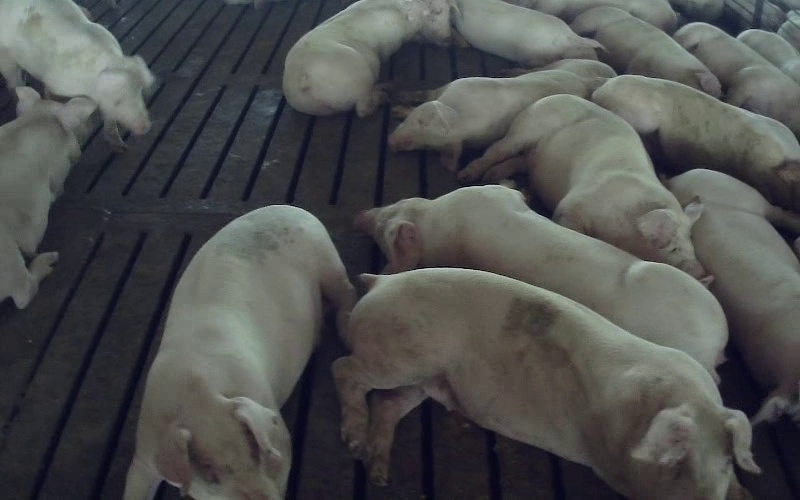pig: (335, 268, 757, 499), (357, 185, 727, 376), (125, 206, 355, 499), (459, 94, 703, 278), (668, 169, 799, 423), (591, 75, 799, 212), (389, 59, 615, 171), (0, 88, 95, 307), (674, 22, 799, 138), (570, 6, 720, 96), (453, 0, 602, 66)
